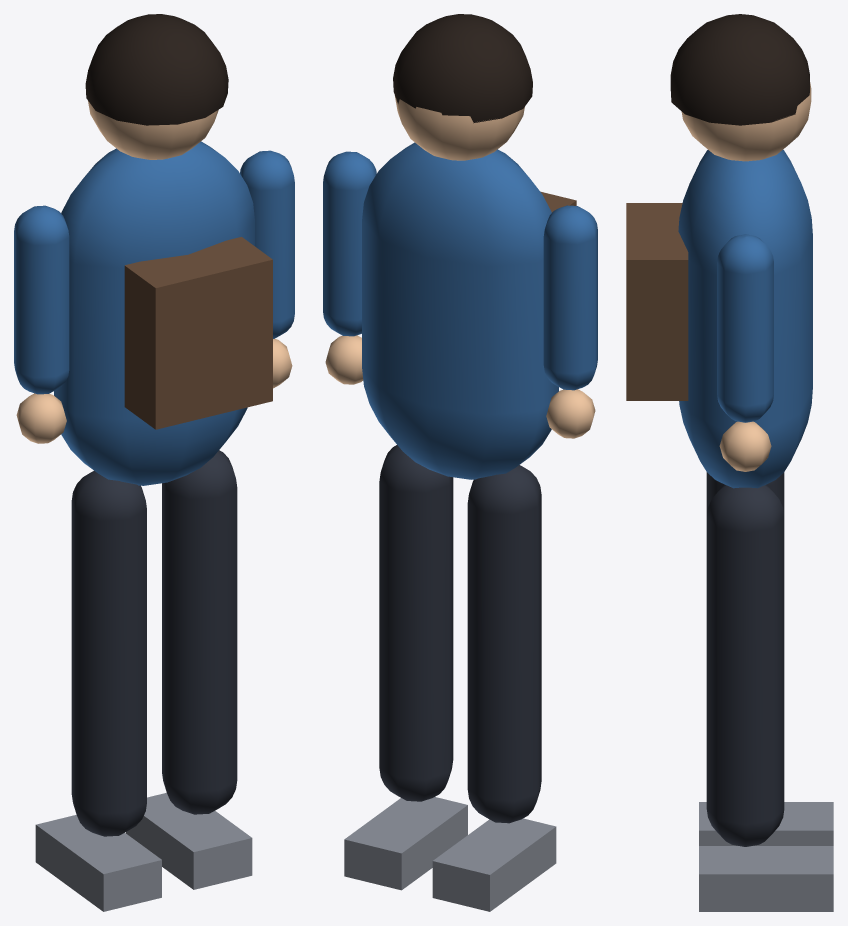
The model's file is character.glb.
3 views of the same model, side by side, from view 1: azimuth 30°, elevation 25°; view 2: azimuth 150°, elevation 25°; view 3: azimuth 270°, elevation 25° (orthographic). The views are drawn at different scales.
Visible parts, largest first — view 1: TorsoMesh, LegLUpper, LegRUpper, BagMesh, HairMesh, ArmLUpper, LegLShoe, LegRShoe, ArmRUpper, HeadMesh, ArmLHand, ArmRHand; view 2: TorsoMesh, LegLUpper, LegRUpper, HairMesh, ArmLUpper, LegLShoe, LegRShoe, ArmRUpper, HeadMesh, ArmLHand, ArmRHand; view 3: LegRUpper, TorsoMesh, HairMesh, BagMesh, ArmRUpper, LegRShoe, HeadMesh, LegLShoe, ArmRHand, LegLUpper.
Boxes of the visible parts, <box> form: TorsoMesh: <box>54,141,254,485</box>; LegLUpper: <box>71,471,146,836</box>; LegRUpper: <box>162,450,237,814</box>; BagMesh: <box>124,237,272,429</box>; HairMesh: <box>85,14,228,125</box>; ArmLUpper: <box>14,205,69,394</box>; LegLShoe: <box>35,815,161,911</box>; LegRShoe: <box>126,793,252,889</box>; ArmRUpper: <box>240,150,294,338</box>; HeadMesh: <box>88,101,218,159</box>; ArmLHand: <box>16,393,66,443</box>; ArmRHand: <box>273,338,292,388</box>; TorsoMesh: <box>362,142,558,479</box>; LegLUpper: <box>467,465,541,823</box>; LegRUpper: <box>379,445,453,801</box>; HairMesh: <box>393,14,532,123</box>; ArmLUpper: <box>543,205,597,390</box>; LegLShoe: <box>432,818,556,911</box>; LegRShoe: <box>344,797,467,890</box>; ArmRUpper: <box>323,151,376,336</box>; HeadMesh: <box>394,95,524,160</box>; ArmLHand: <box>546,389,595,438</box>; ArmRHand: <box>325,335,363,384</box>; LegRUpper: <box>706,485,784,846</box>; TorsoMesh: <box>678,150,812,488</box>; HairMesh: <box>670,14,809,125</box>; BagMesh: <box>626,203,688,400</box>; ArmRUpper: <box>717,234,773,422</box>; LegRShoe: <box>699,846,833,911</box>; HeadMesh: <box>681,82,811,161</box>; LegLShoe: <box>699,802,833,845</box>; ArmRHand: <box>719,421,771,471</box>; LegLUpper: <box>706,472,784,514</box>.
Bounding box in the file's own units: 0.61 × 1.82 × 0.4.
